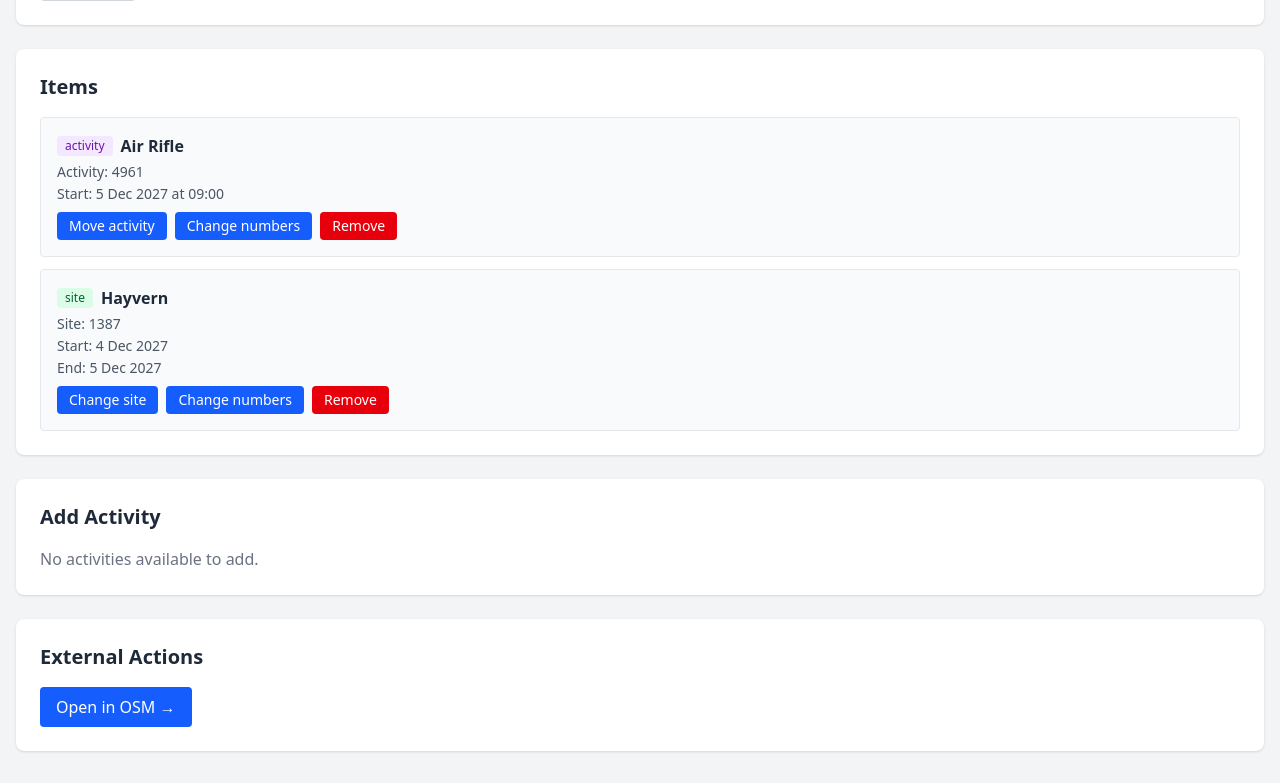
change-site action › shows a no-alternatives message when only the current site exists
The width and height of the screenshot is (1280, 783).
(page scrolled)
Click the button "Change site": (108, 400) x1=57 y1=386 x2=158 y2=414
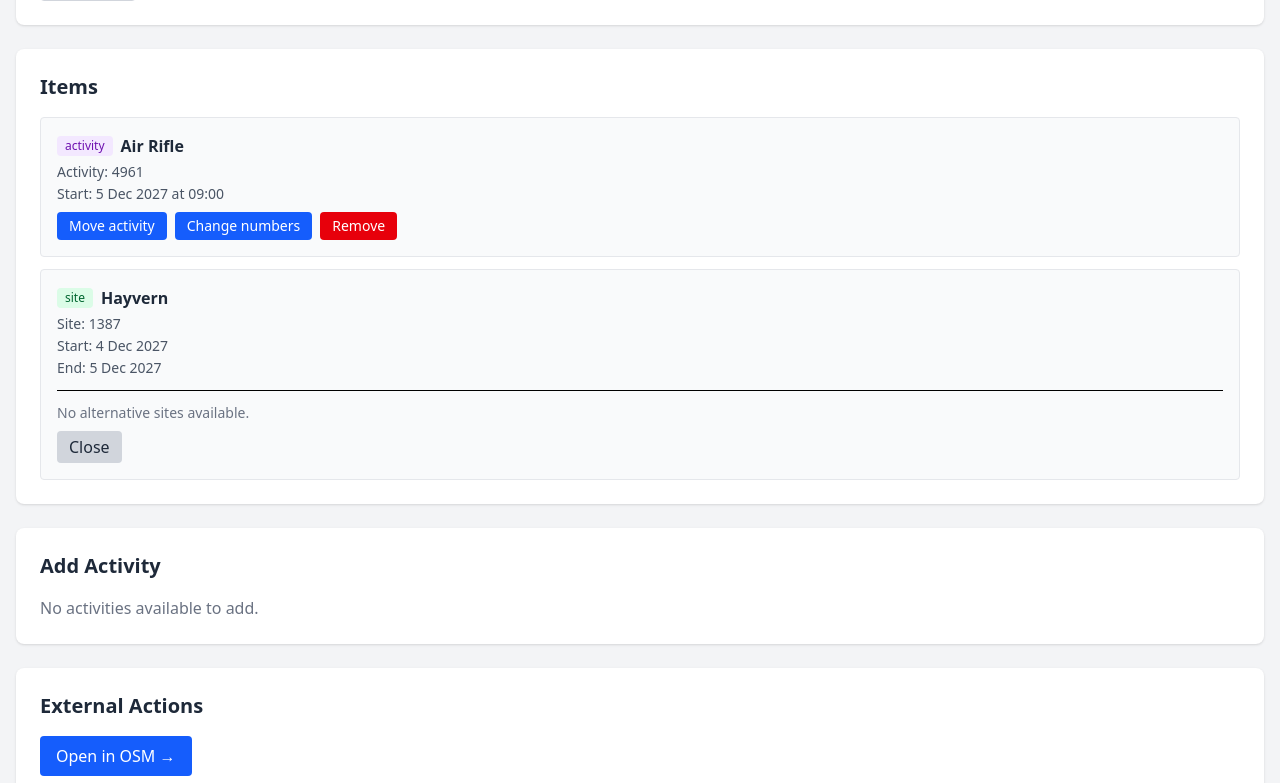
Expected: the text "No alternative sites available." is shown, x1=57 y1=403 x2=249 y2=422
